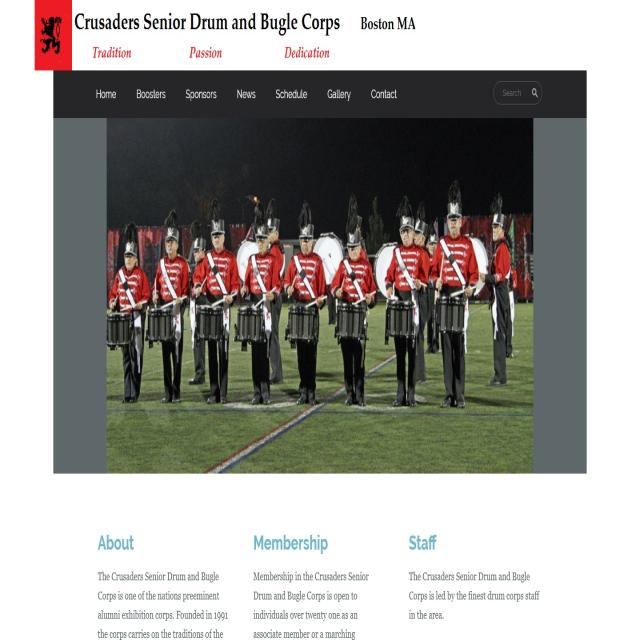button: (270, 78, 313, 110), (130, 81, 172, 110), (363, 80, 405, 108), (180, 78, 218, 108), (321, 78, 354, 109), (227, 81, 262, 108), (92, 80, 119, 106), (530, 85, 540, 104)
field: (493, 75, 545, 108)
heading: (74, 3, 343, 40), (252, 528, 332, 560), (89, 528, 142, 555), (406, 525, 440, 553)
image: (106, 118, 534, 475), (33, 0, 69, 68)
label: (499, 80, 524, 102)
text: (97, 569, 232, 640), (253, 566, 371, 640), (407, 564, 546, 624), (357, 7, 419, 35), (182, 40, 228, 68), (283, 44, 338, 62), (90, 44, 136, 63)
